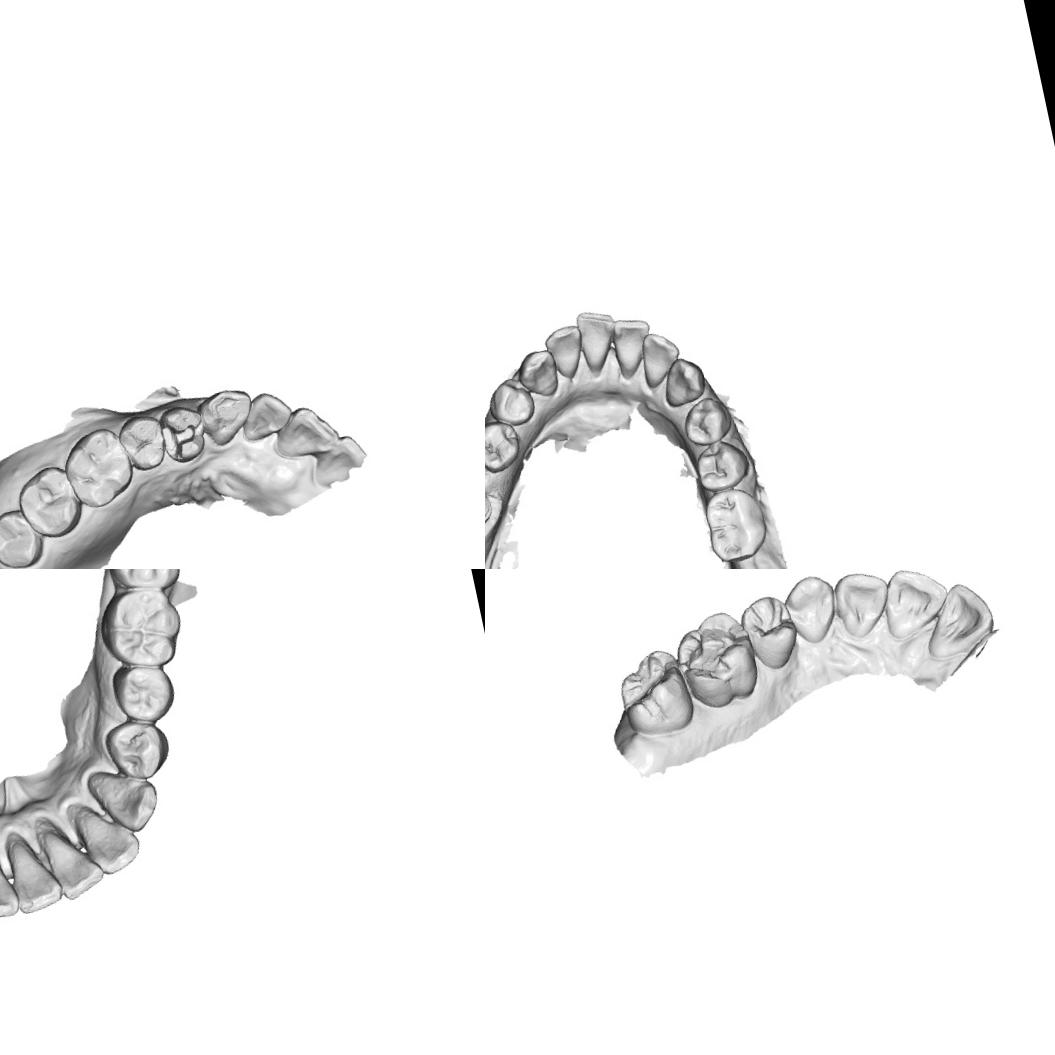canine: (83, 759, 164, 841), (779, 571, 844, 649), (196, 382, 260, 450), (656, 351, 710, 409), (512, 345, 564, 404)
implant_plus: (485, 484, 496, 531)
incisor: (914, 576, 1000, 663), (875, 569, 955, 640), (40, 820, 106, 904), (75, 801, 143, 880), (266, 398, 345, 464), (829, 569, 898, 641), (6, 840, 64, 916), (234, 385, 298, 446), (572, 305, 625, 373), (606, 312, 660, 376), (634, 325, 686, 389), (540, 322, 589, 385), (0, 846, 22, 925)
inlay: (678, 620, 748, 688), (158, 411, 206, 466)
molar: (94, 580, 190, 676), (611, 644, 698, 743), (56, 422, 142, 514), (10, 459, 88, 545), (698, 482, 775, 568), (0, 502, 47, 569)
premolar: (736, 590, 804, 676), (99, 712, 174, 786), (106, 658, 181, 728), (688, 433, 754, 496), (113, 409, 171, 476), (677, 392, 739, 450), (485, 373, 539, 432), (485, 416, 527, 476)
